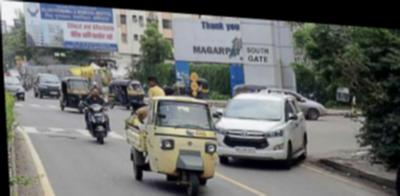License_Plate: (236, 145, 254, 151), (194, 129, 207, 135)
